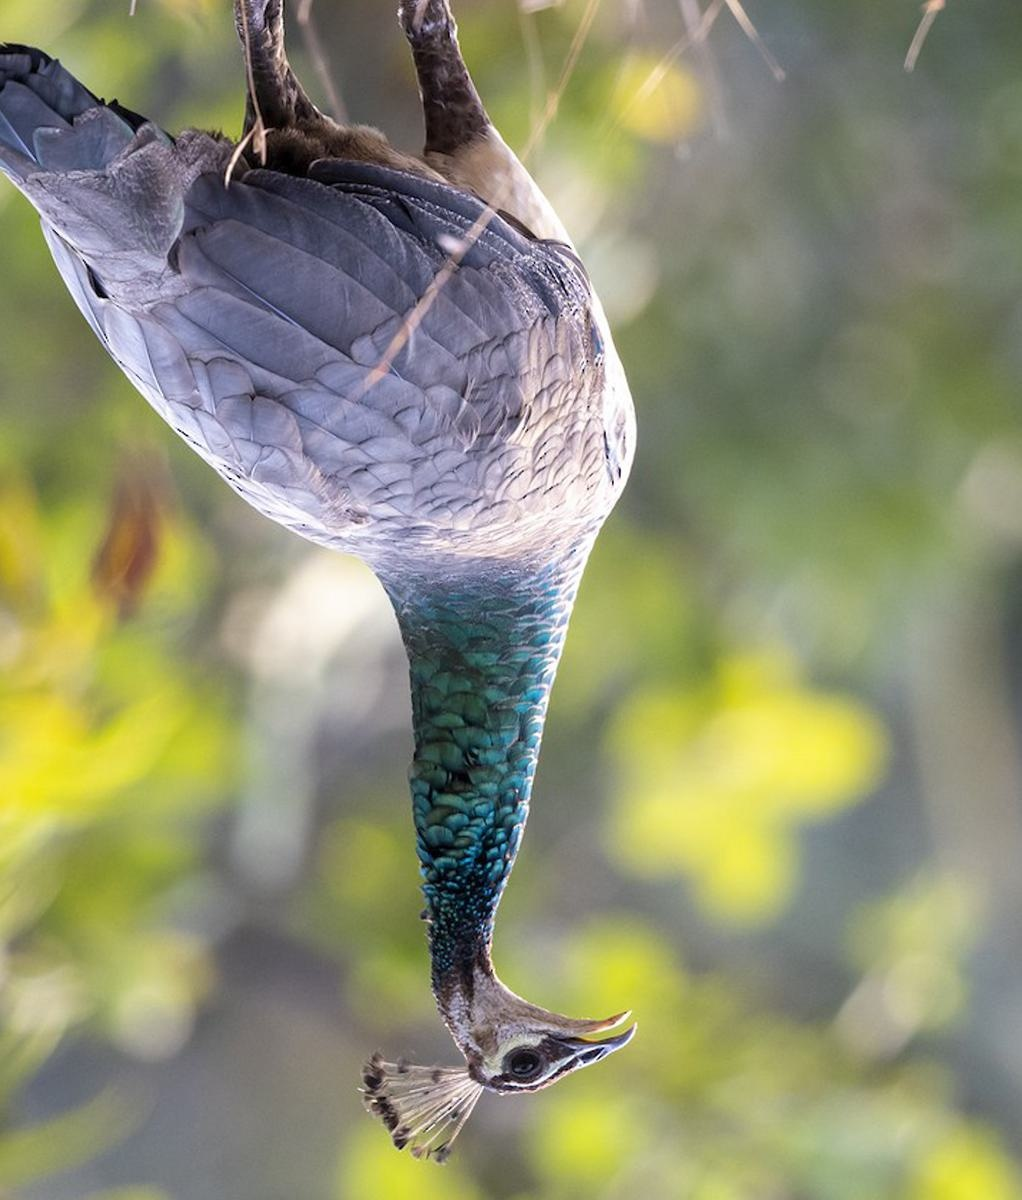peacock: (1, 1, 660, 1147)
